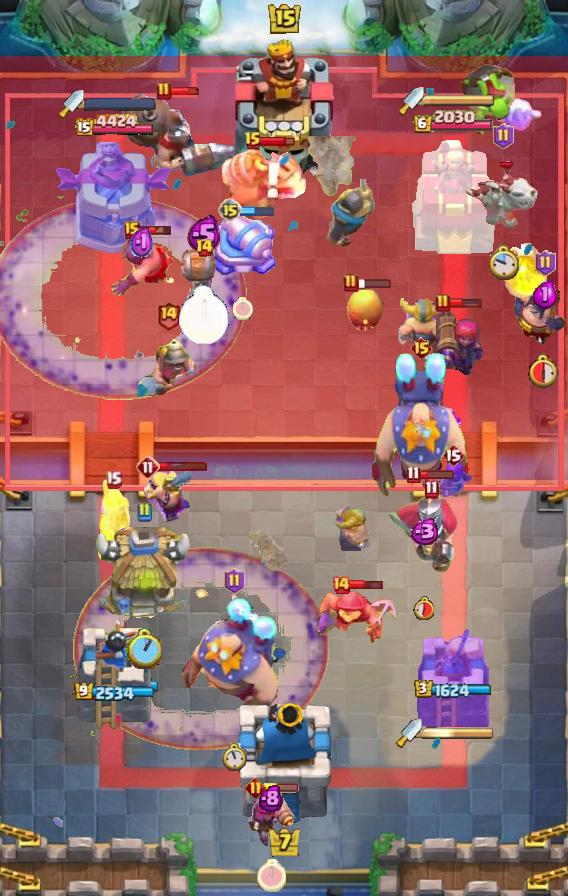arrows: (143, 469, 191, 523)
bandit: (136, 334, 200, 398)
bar: (55, 142, 173, 256), (409, 138, 497, 256), (414, 623, 492, 731)
bar-level: (458, 59, 518, 135)
bomb-tower: (94, 477, 132, 575)
cannon: (426, 462, 480, 506)
electro-spirit: (187, 215, 221, 254), (407, 518, 441, 546), (130, 225, 154, 261), (533, 280, 557, 308), (259, 784, 283, 812)
elixir: (178, 286, 230, 347), (126, 629, 162, 669), (528, 351, 562, 388), (487, 244, 519, 282), (257, 860, 286, 893), (222, 743, 247, 772), (414, 596, 435, 620), (233, 296, 253, 320)
emote: (158, 460, 208, 471), (240, 203, 275, 217), (348, 578, 383, 591), (138, 224, 174, 236), (356, 277, 392, 289), (261, 135, 296, 147), (418, 469, 455, 480), (450, 297, 483, 309), (263, 783, 299, 793), (170, 86, 202, 96)
fireball: (313, 588, 401, 650)
firecracker: (324, 179, 375, 249)
fisherman: (307, 136, 360, 202), (249, 531, 287, 571)
goblin-giant: (395, 298, 451, 352), (333, 505, 369, 552)
hog: (345, 288, 385, 332)
king-tower: (228, 35, 340, 181), (235, 703, 333, 826)
king-tower-bar: (424, 93, 496, 107), (84, 97, 156, 111), (422, 726, 494, 740)
knight: (180, 250, 228, 298)
little-prince: (369, 352, 473, 500), (180, 596, 288, 722)
mega-minion: (431, 303, 483, 375)
mini-pekka: (464, 147, 542, 233)
mirror: (494, 97, 544, 135)
monk: (109, 232, 175, 298), (512, 275, 568, 347)
night-witch: (220, 144, 312, 222)
prince: (93, 527, 195, 623)
queen-tower: (70, 616, 158, 731)
rocket: (73, 547, 329, 751), (1, 196, 248, 400)
royal-recruit: (208, 206, 279, 282)
selected: (412, 109, 494, 135), (73, 113, 154, 139), (73, 681, 154, 702), (414, 679, 492, 699)
text: (156, 301, 181, 332), (218, 198, 242, 222), (136, 455, 160, 479), (493, 123, 515, 149), (411, 336, 434, 360), (536, 250, 557, 276), (224, 568, 245, 594), (442, 443, 464, 467), (245, 777, 266, 798), (194, 238, 214, 258), (331, 575, 351, 595), (244, 131, 262, 151), (105, 470, 122, 489), (156, 81, 172, 101), (343, 273, 359, 293), (435, 293, 451, 313), (136, 502, 152, 522), (124, 221, 140, 239), (406, 465, 421, 483)
tombstone: (247, 789, 295, 851)
valkyrie: (499, 235, 549, 301)
wall-breaker-evolution: (387, 471, 459, 573)
wizard: (119, 90, 239, 180)
